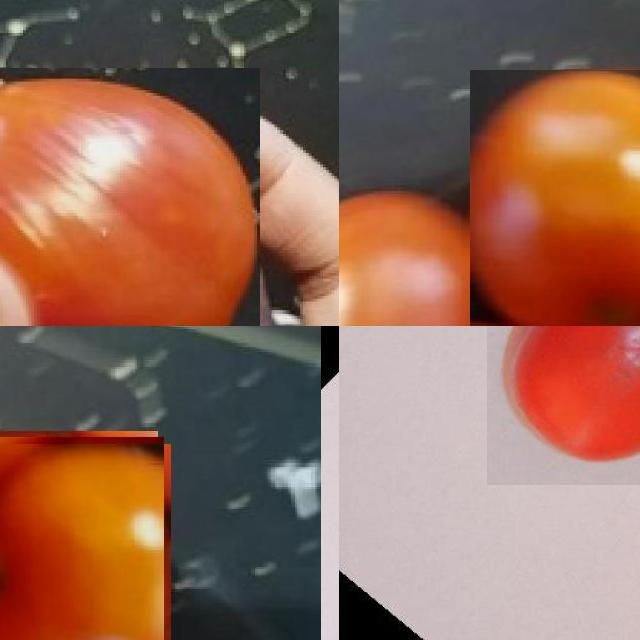1: (0, 68, 260, 326)
Fresh Tomato: (470, 70, 640, 326), (0, 437, 164, 640), (339, 172, 551, 326), (487, 326, 640, 485)
